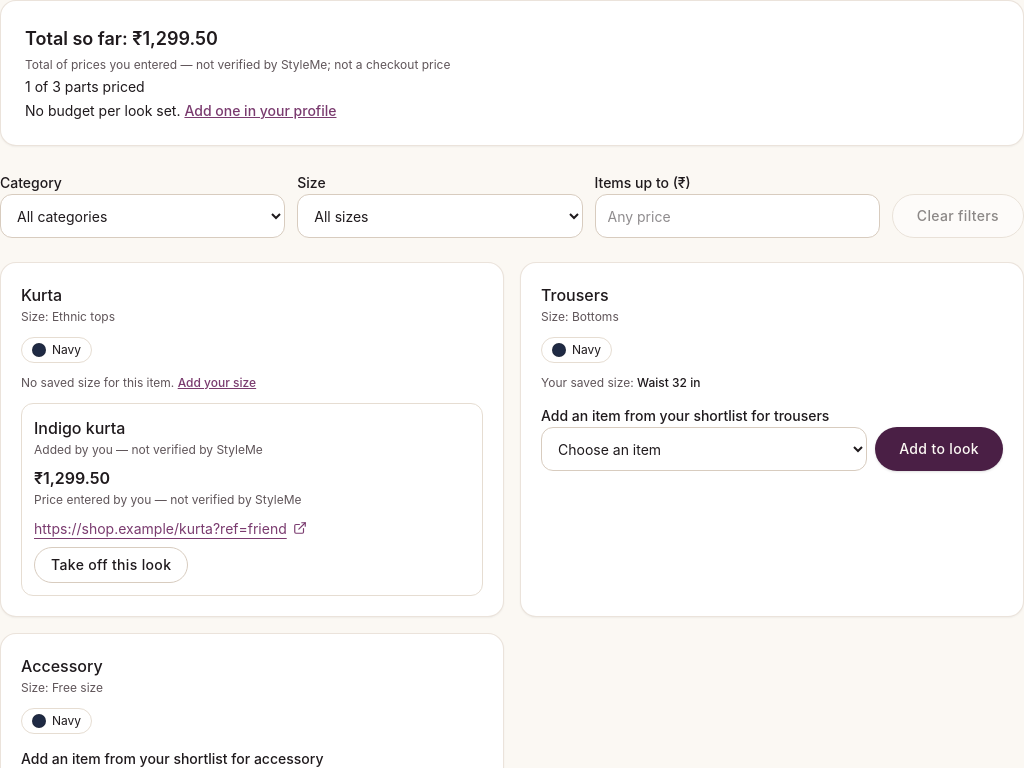
Test: Shop My Look for a saved look › filters parts by category and size, and items by price
The width and height of the screenshot is (1024, 768).
Select "Trousers" in the dropdown labelled "Category". click: (143, 216)
box: [0,194,285,238]
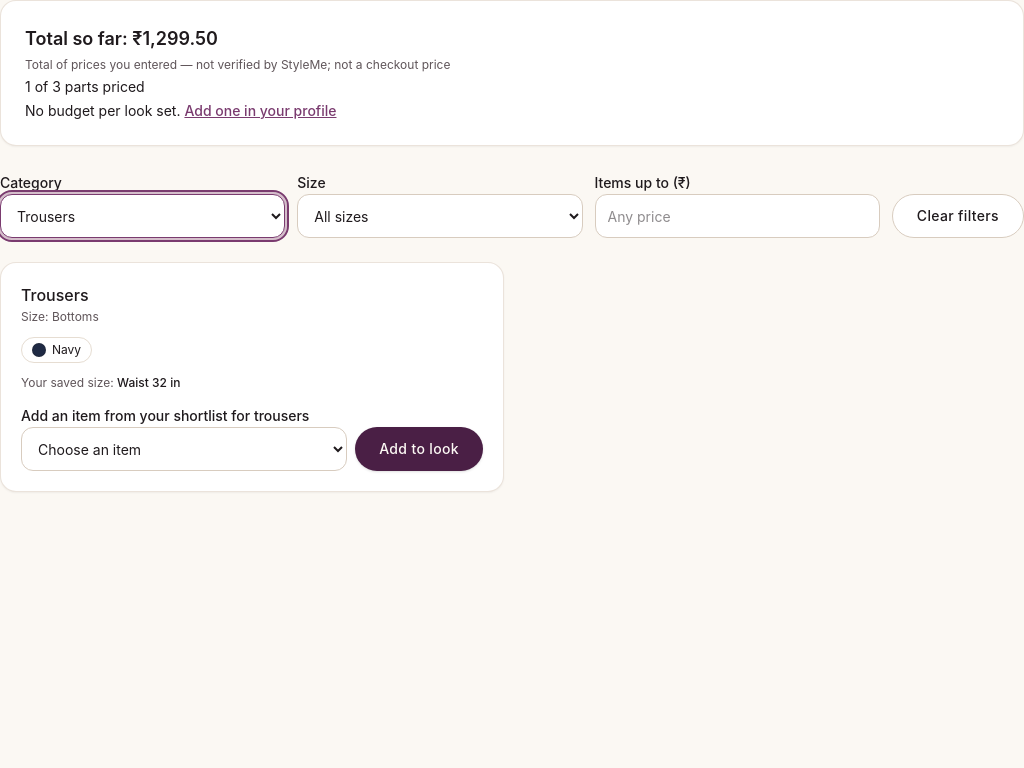
expect the headings read "Trousers", in this order: met, box [21,285,88,305]
Select "All categories" in the dropdown labelled "Category". click: (143, 216)
box: [0,194,285,238]
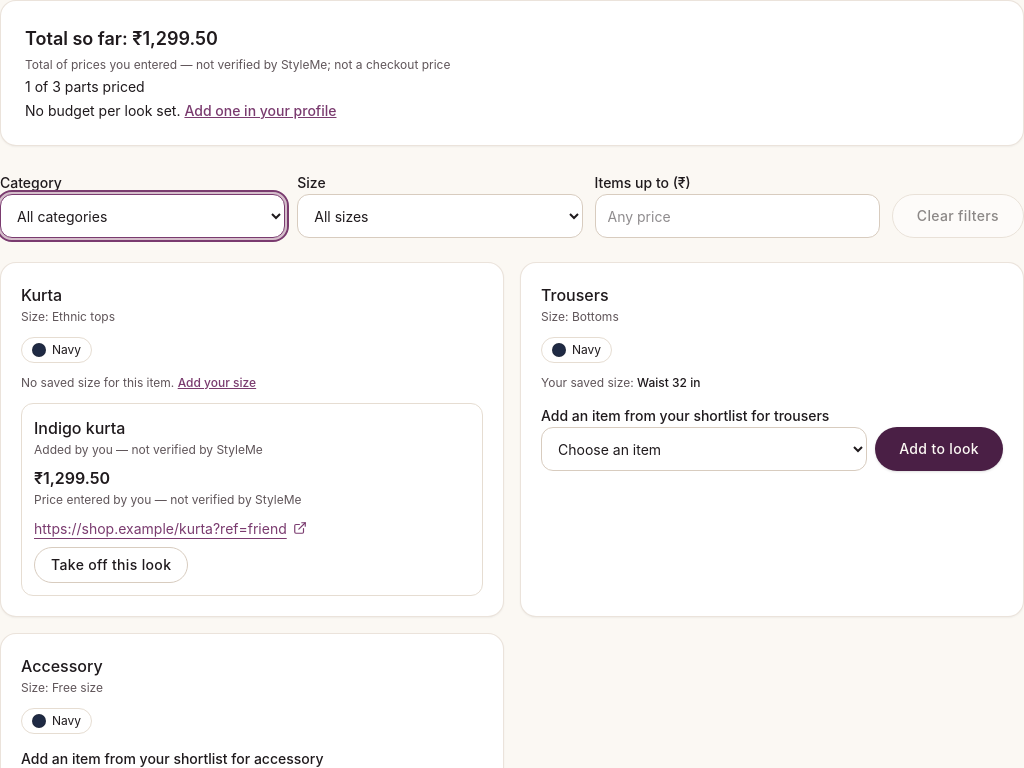
Select "Free size" in the dropdown labelled "Size". click: (440, 216)
box: [297,194,583,238]
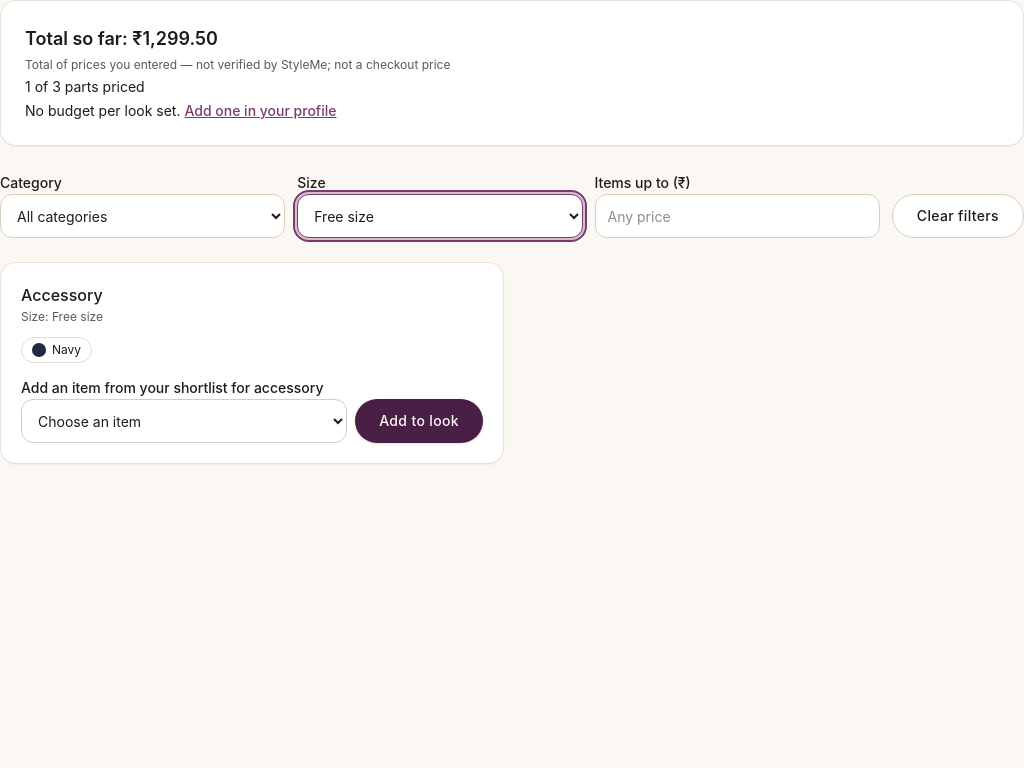
expect the headings read "Accessory", in this order: met, box [21,285,103,305]
Type "500" into the field labelled "Items up to (₹)". click: (737, 216)
box: [594,194,880,238]
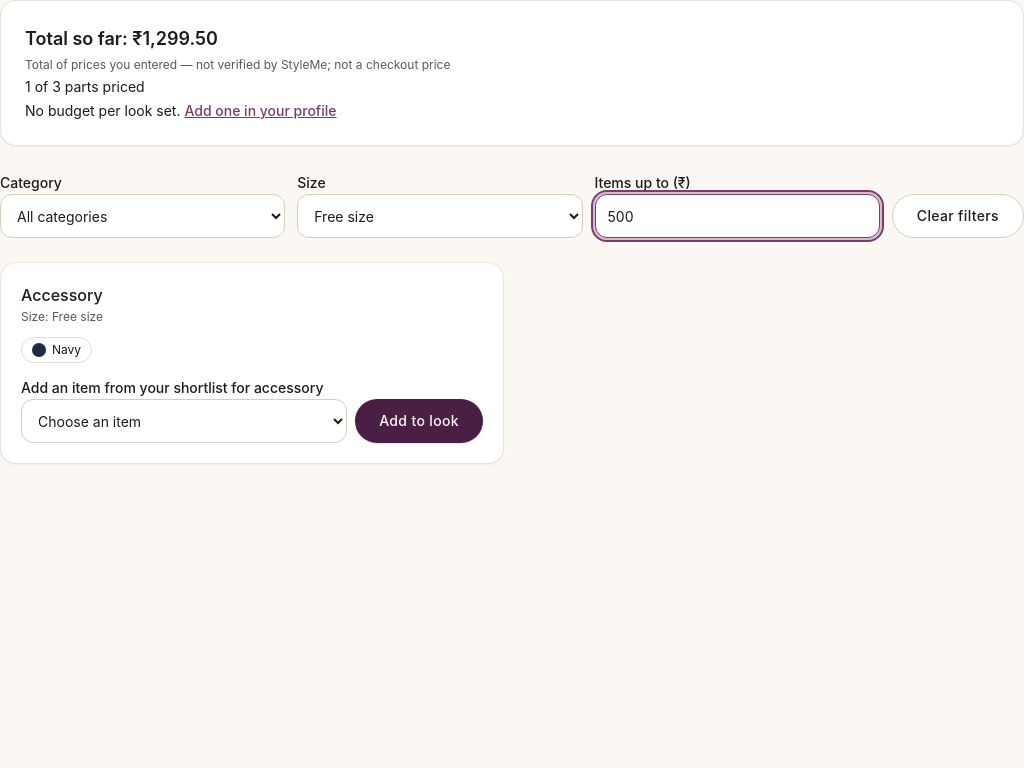
Click the button "Clear filters". click: (958, 216)
box: [892,194,1023,238]
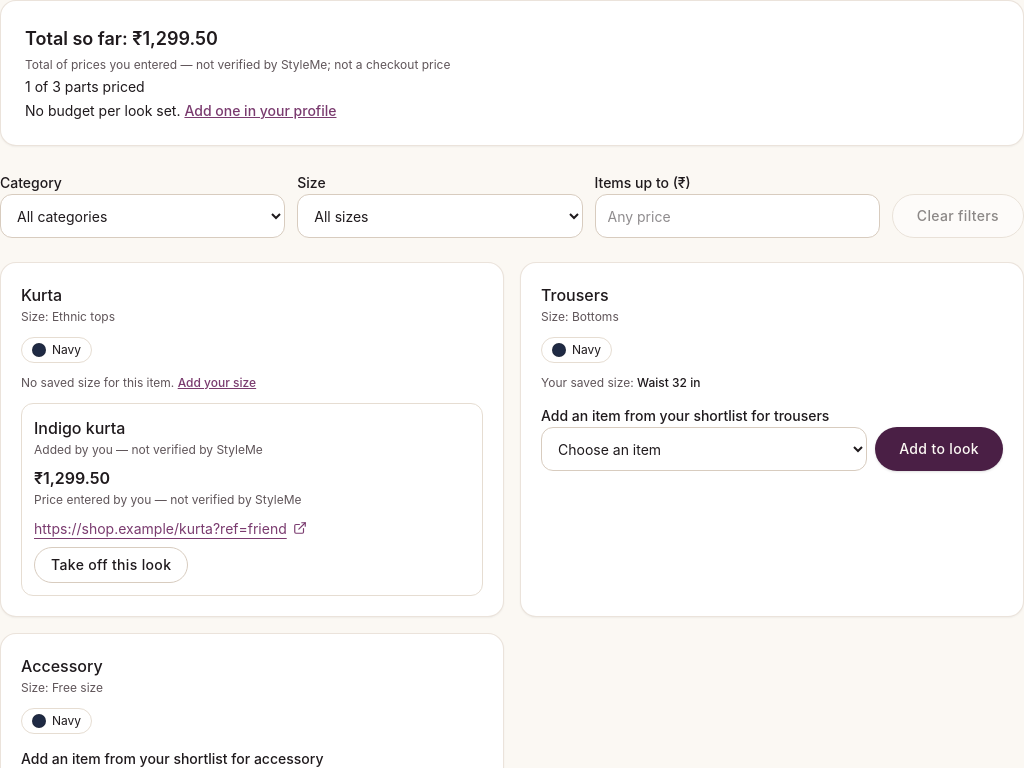
expect the number of headings is 3: met, box [21,285,62,305]; [541,285,608,305]; [21,656,103,676]
